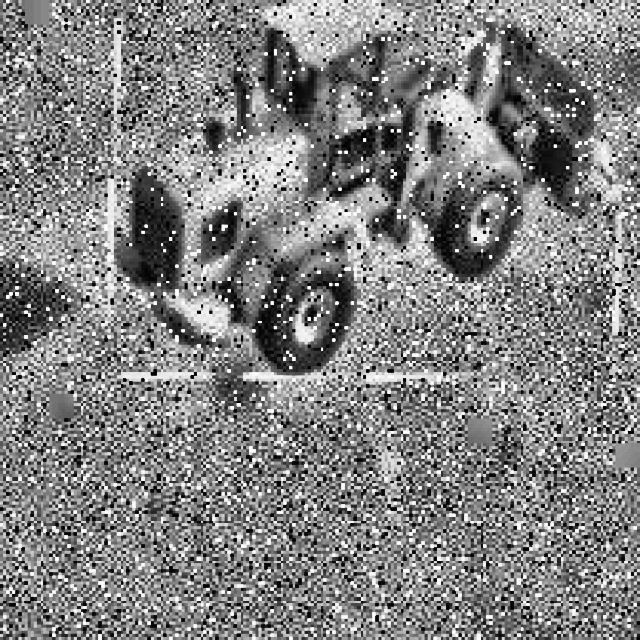buldozerpayloadergrader: (102, 0, 630, 391)
